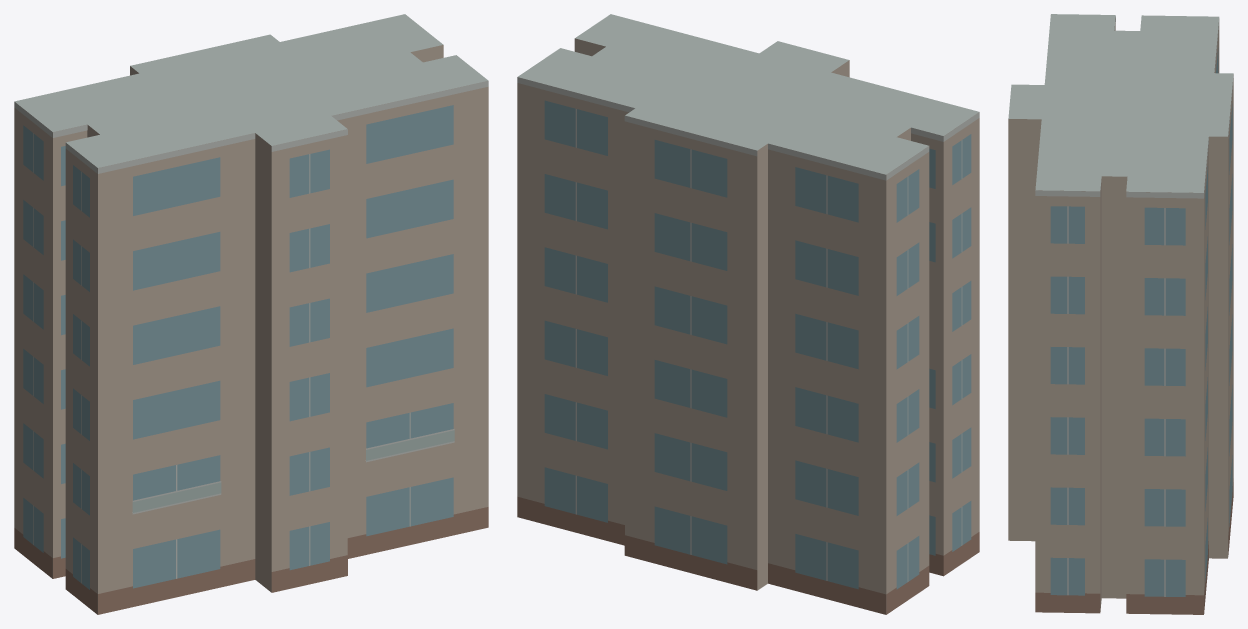
File: survey-upis-32963103.glb
3 renders of one model, left to right at view 1: azimuth 30°, elevation 25°; view 2: azimuth 150°, elevation 25°; view 3: azimuth 270°, elevation 25°, orthographic. The views are drawn at different scales.
Visible parts, largest first — view 1: survey-upis-32963103.tmp; view 2: survey-upis-32963103.tmp; view 3: survey-upis-32963103.tmp.
Boxes of the visible parts, bbox=[...] form: survey-upis-32963103.tmp: bbox=[14, 14, 488, 614]; survey-upis-32963103.tmp: bbox=[517, 14, 979, 614]; survey-upis-32963103.tmp: bbox=[1008, 14, 1233, 614].
Bounding box in the file's own units: 16.65 × 18.3 × 8.86.
